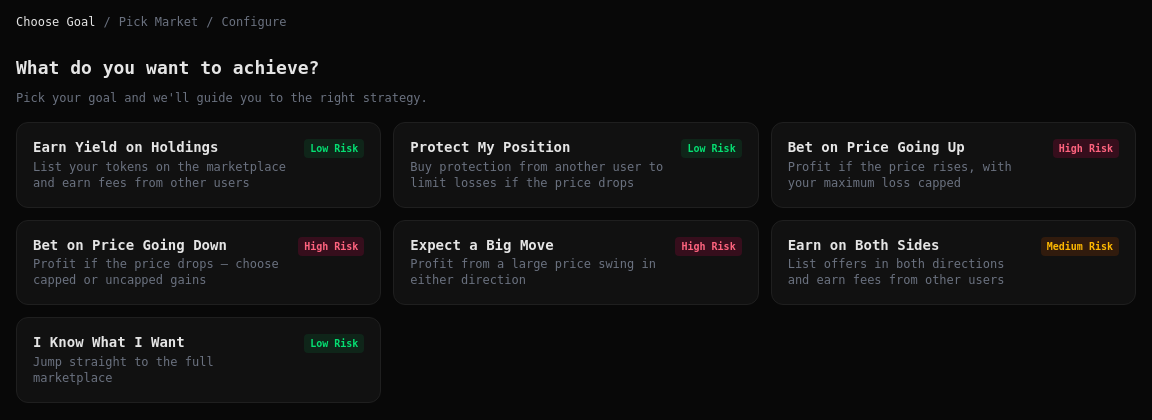
TradePage › clicking intent updates URL to step 2
Click the button with test id "intent-earn-yield": (199, 165) left=16, top=122, right=381, bottom=208
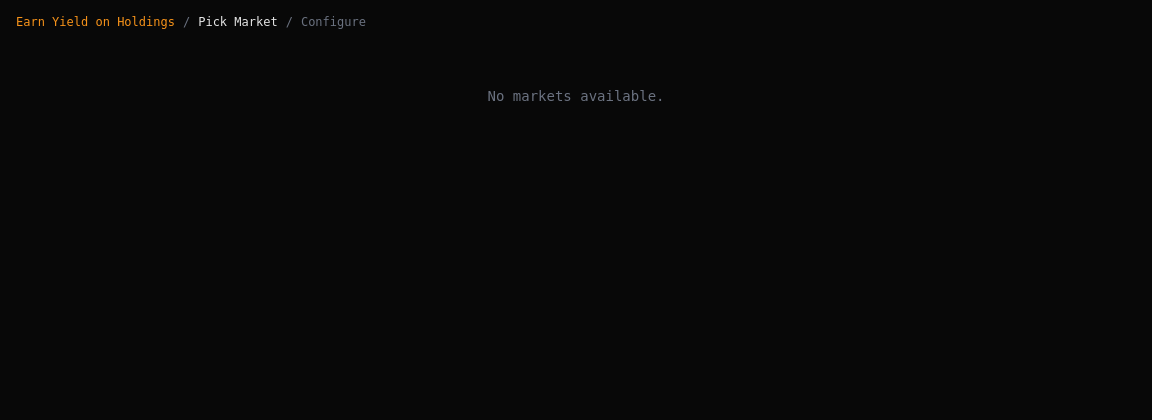
Expected: the element with test id "market-picker-empty" is shown, left=488, top=88, right=664, bottom=104
